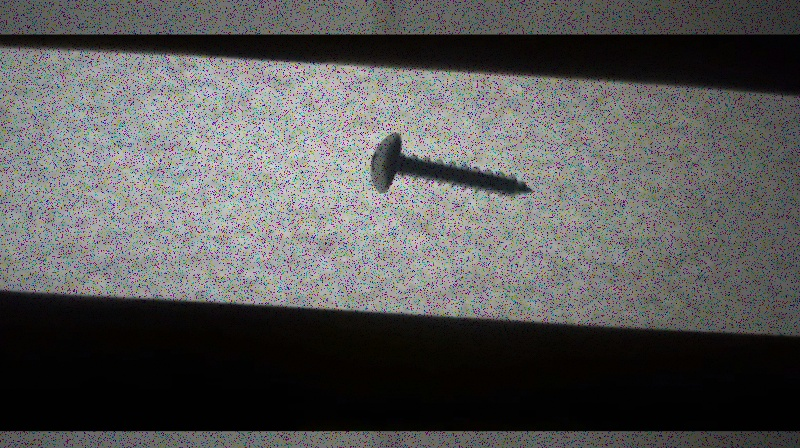S003: (366, 129, 535, 201)
